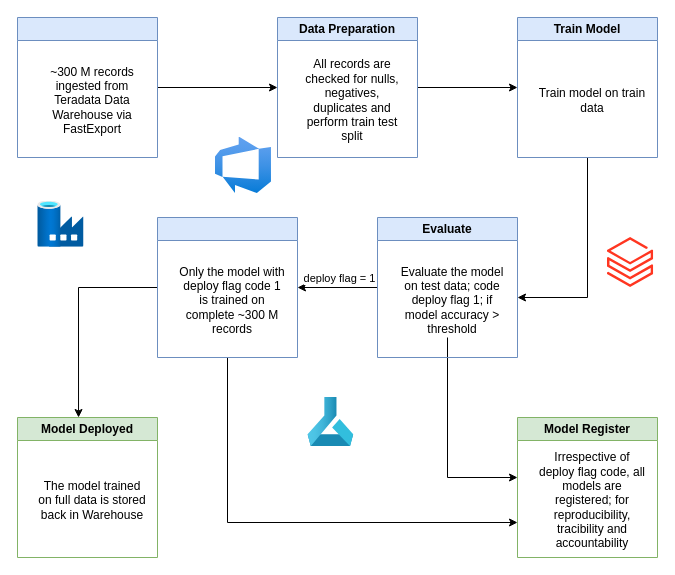
Image size: 675x575. Some labels were removed from this diagram. The box of each missing label's shape, as (x1, y1, x2, y2) in pixels:
Data Ingestion: (16, 16, 158, 158)
Train on Full Data: (156, 216, 298, 358)
